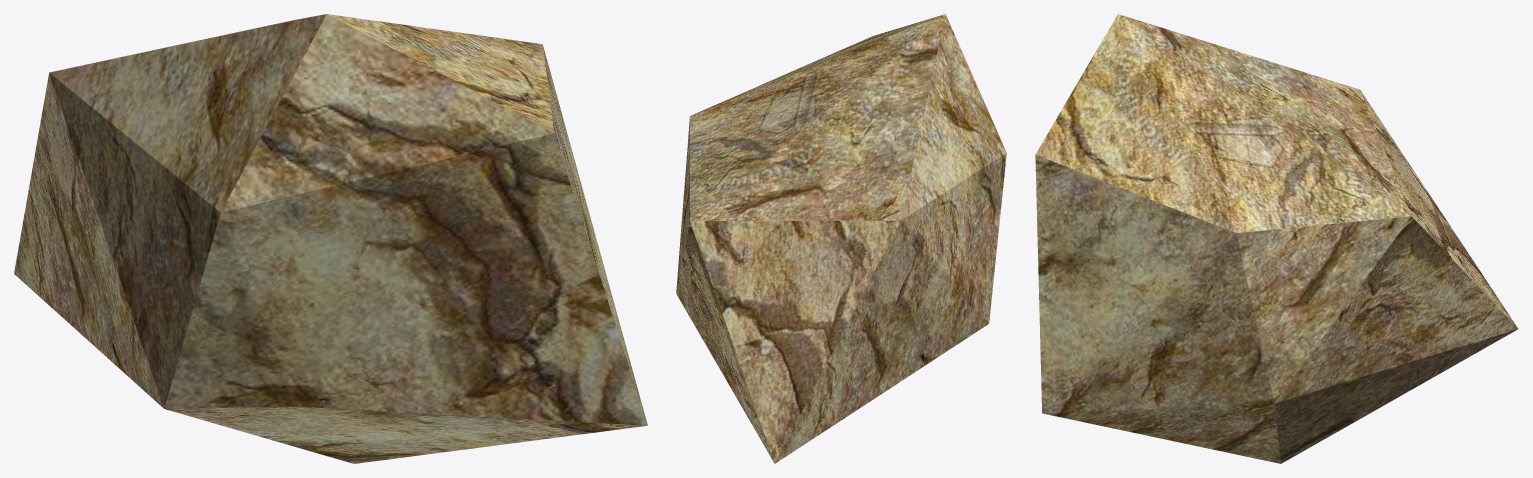
The model's file is rock13.fbx.
3 views of the same model, side by side, from view 1: azimuth 30°, elevation 25°; view 2: azimuth 150°, elevation 25°; view 3: azimuth 270°, elevation 25° (orthographic). The views are drawn at different scales.
Parts seen in each view (by area): view 1: Rock13; view 2: Rock13; view 3: Rock13.
Part boxes in pixels (x1,y1,x2,y2): Rock13: [14, 14, 647, 463]; Rock13: [676, 14, 1006, 463]; Rock13: [1035, 14, 1518, 463].
Size of the model in its own units: 3.21 by 4.22 by 4.61.
